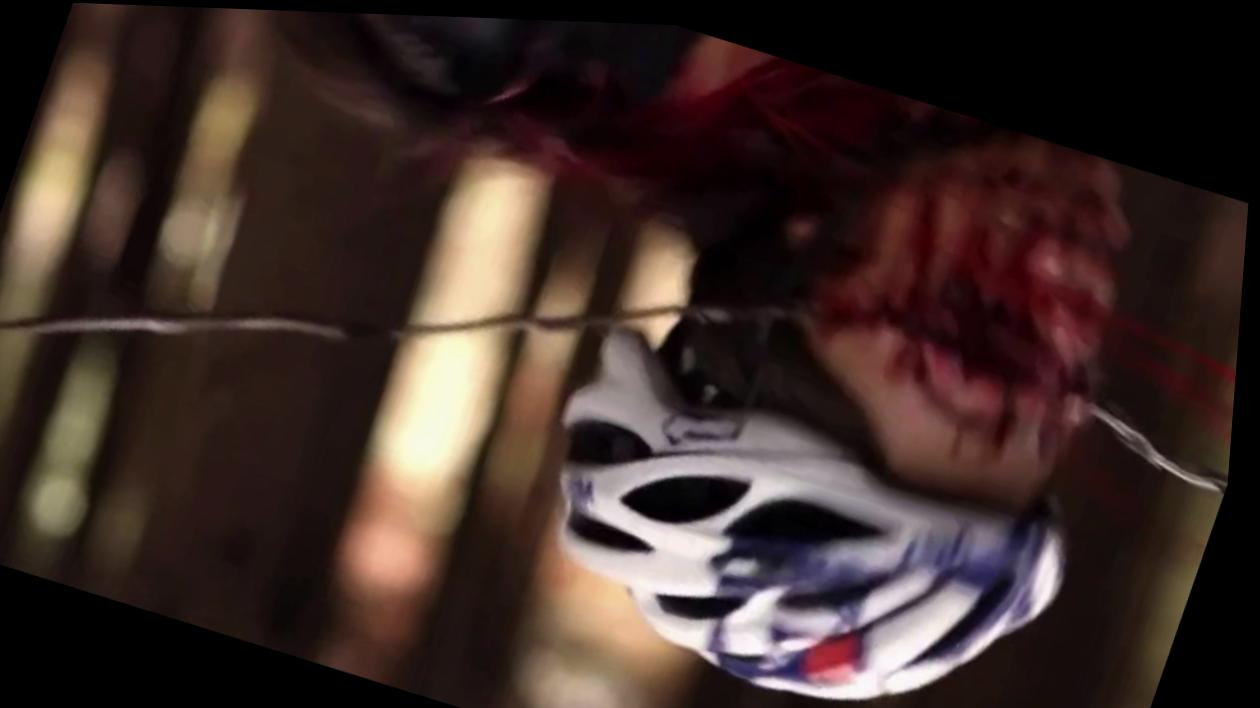Fire: (408, 24, 1241, 568)
